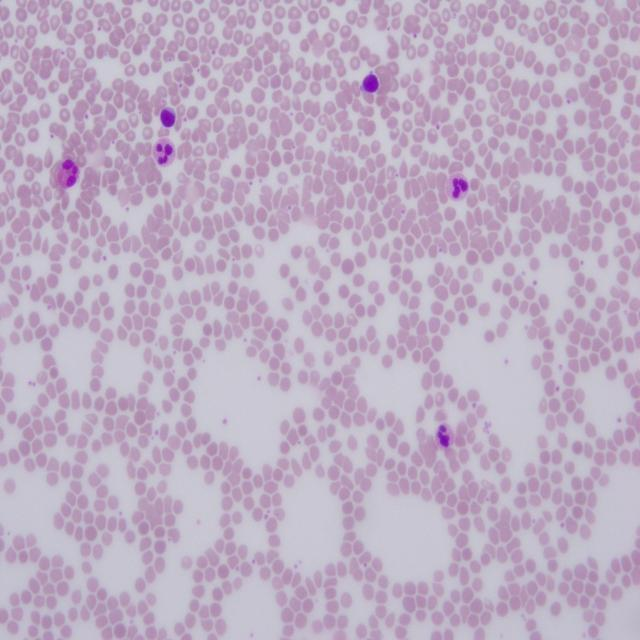cell: (445, 172, 469, 201), (152, 137, 175, 166), (435, 424, 454, 449)
